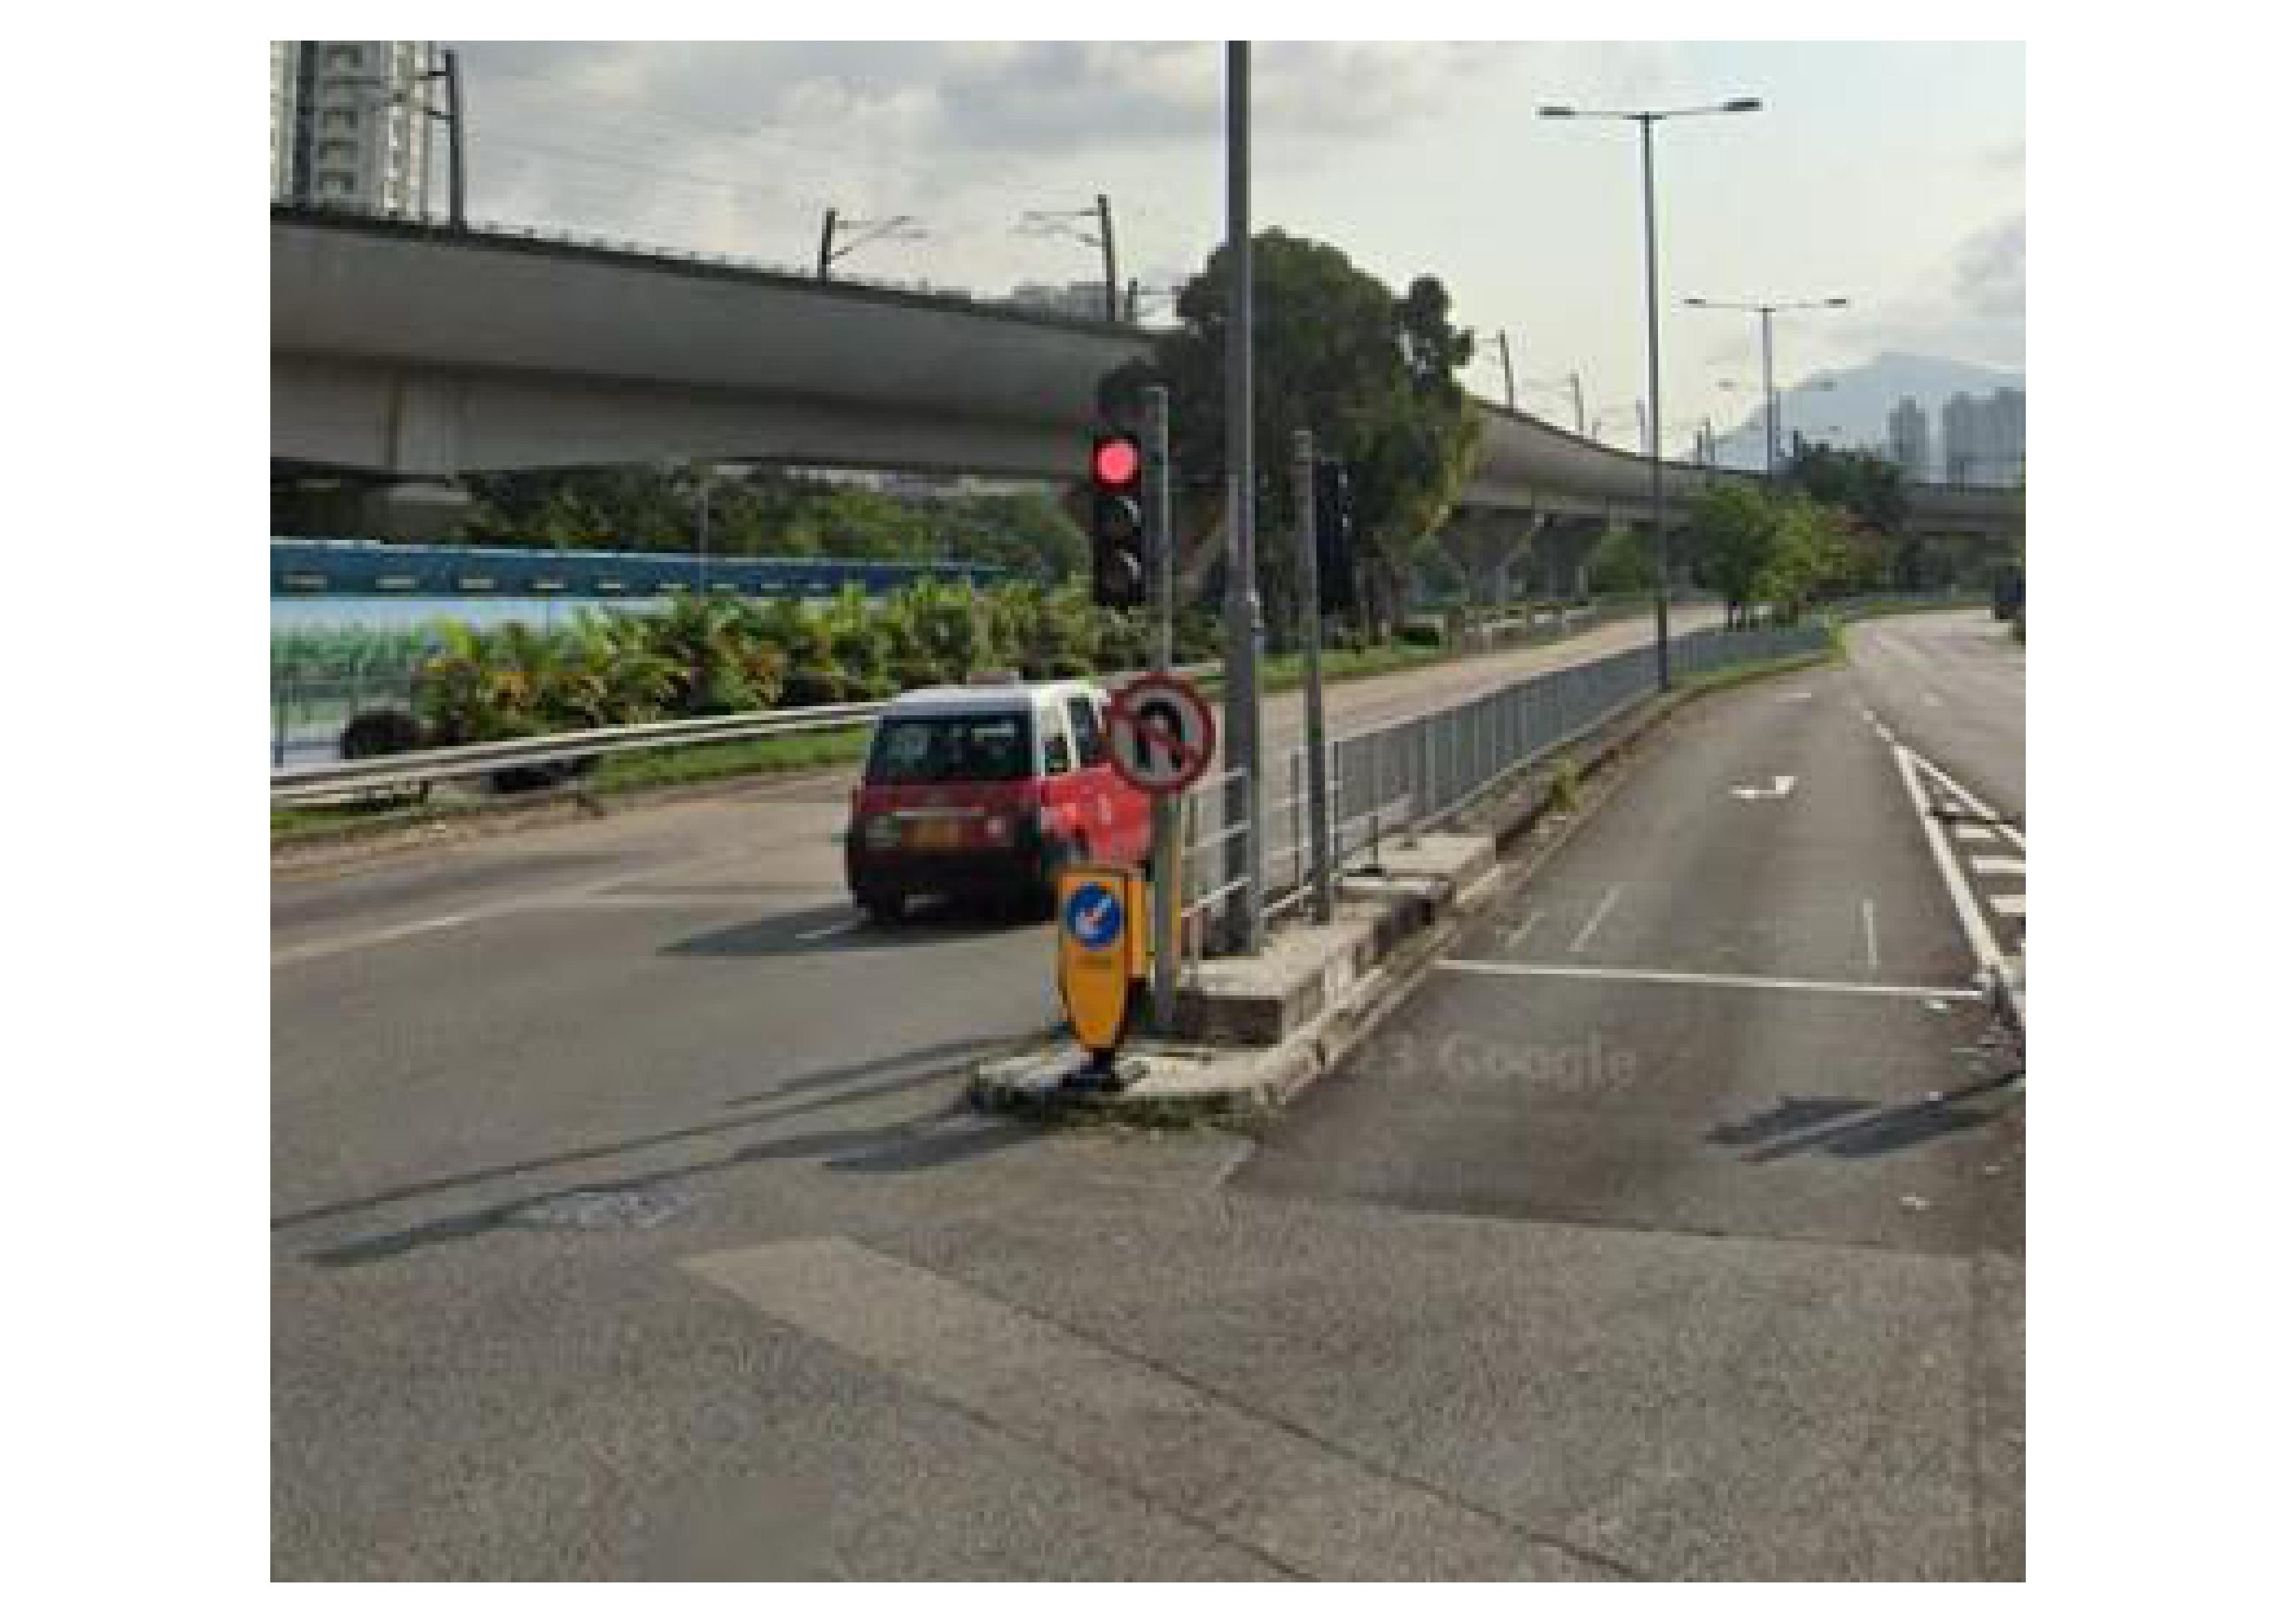No Uturn: (1099, 676, 1223, 790)
